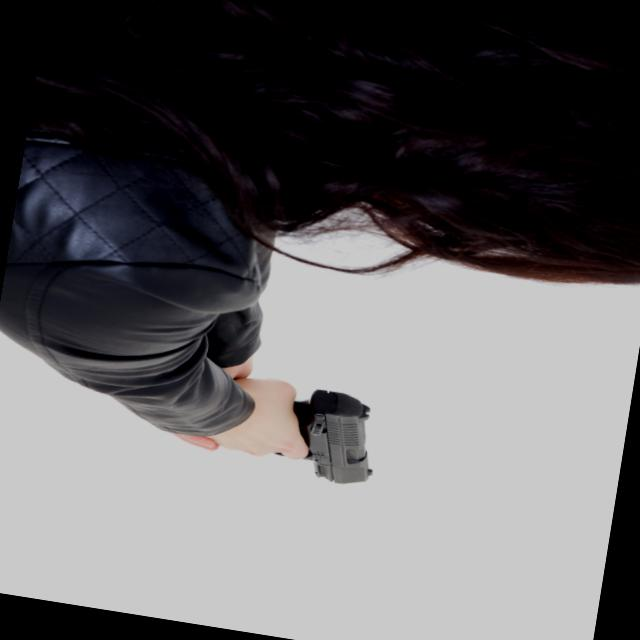handgun: (206, 364, 407, 512)
